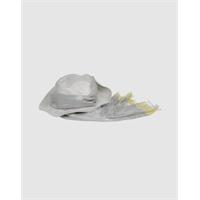hat: (40, 74, 112, 117)
